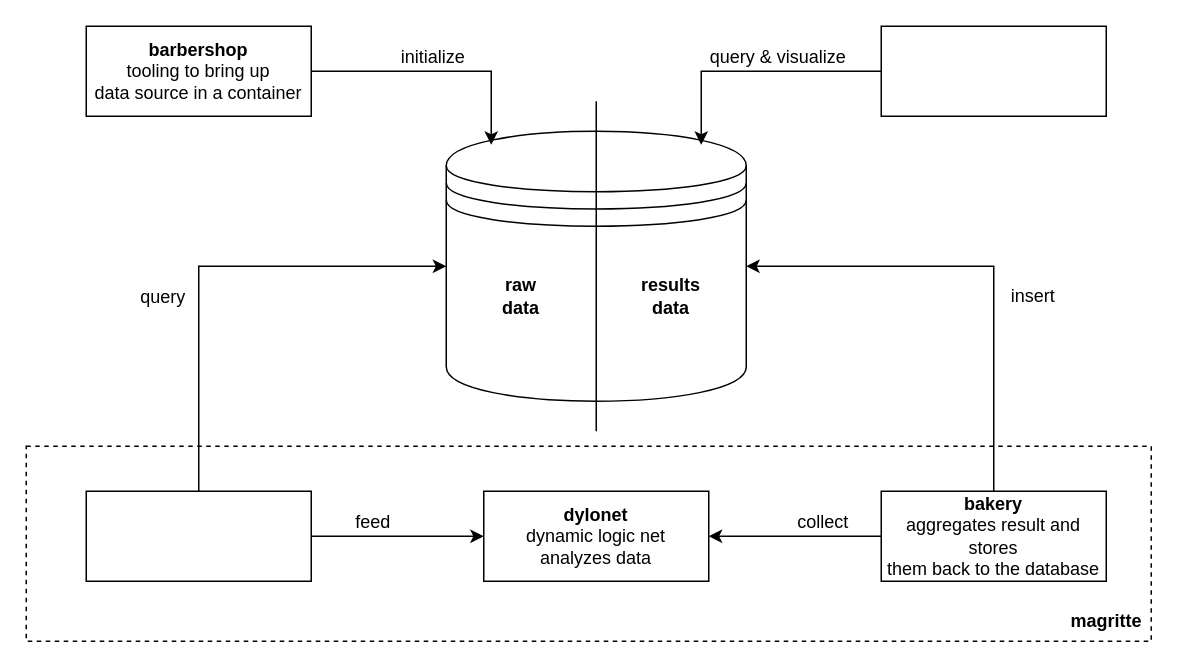
Some shapes in this 1178 by 668 pixel diagram are drawn without their labels. The centre of each missing label's shape, as x and y in pixels:
harvester pulls data from database and feeds it into dylonet: the point at 198,535
opsroom tooling to visualize results of data analysis process: the point at 993,70
